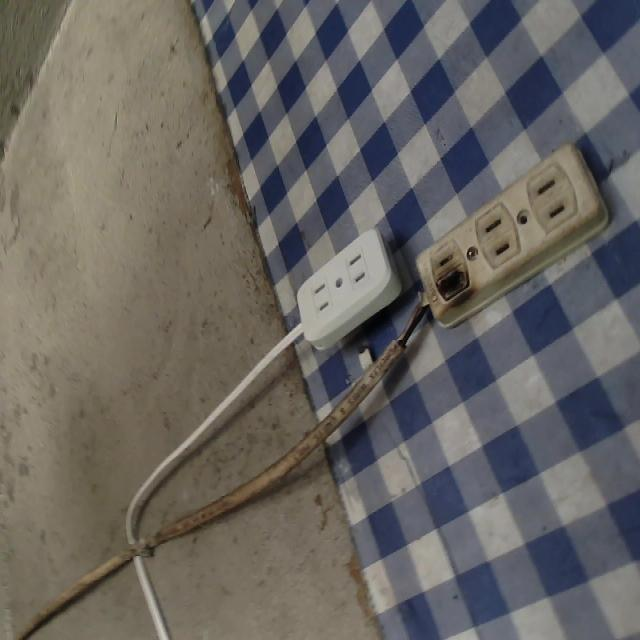-: (426, 251, 472, 312)
